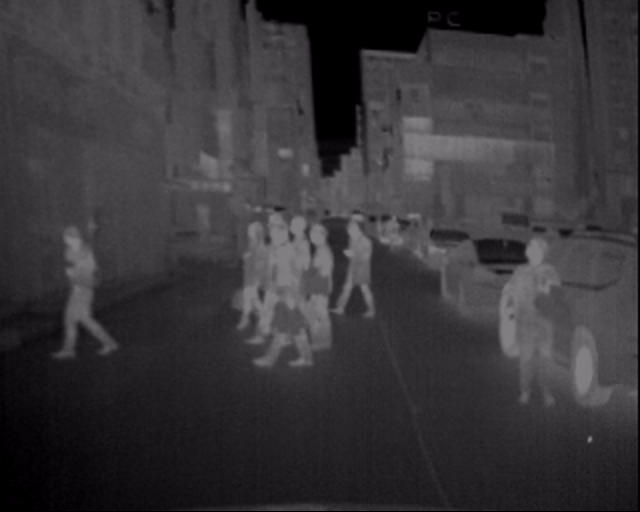person: (218, 192, 302, 385), (511, 222, 585, 417), (43, 213, 105, 380), (295, 201, 346, 367), (336, 201, 385, 340)
